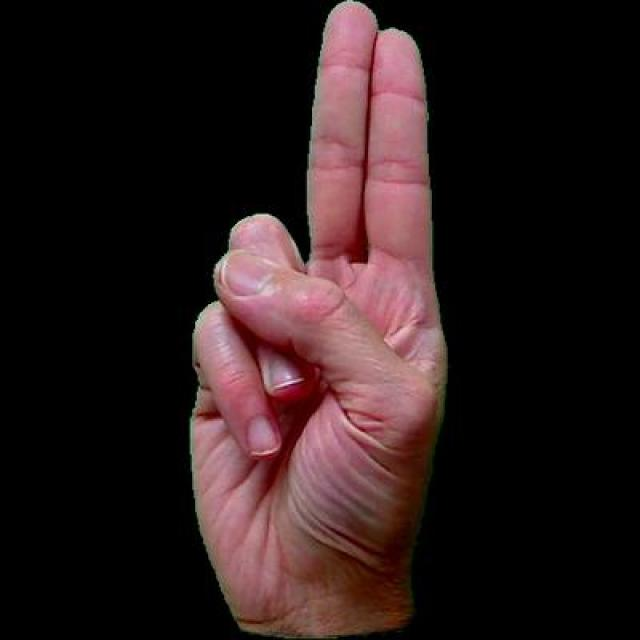u: (176, 0, 459, 637)
